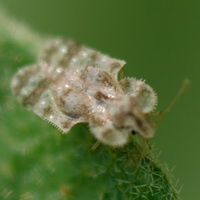insect: (11, 39, 156, 145)
